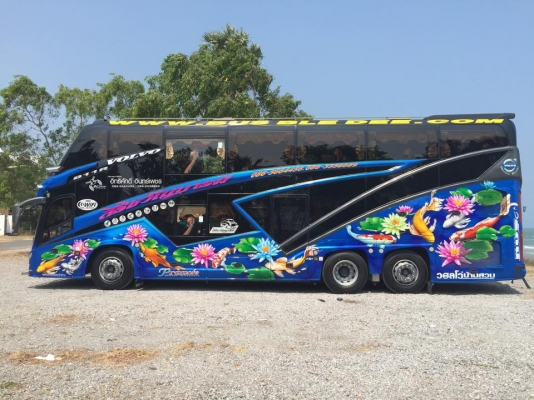bus: (25, 113, 526, 295)
